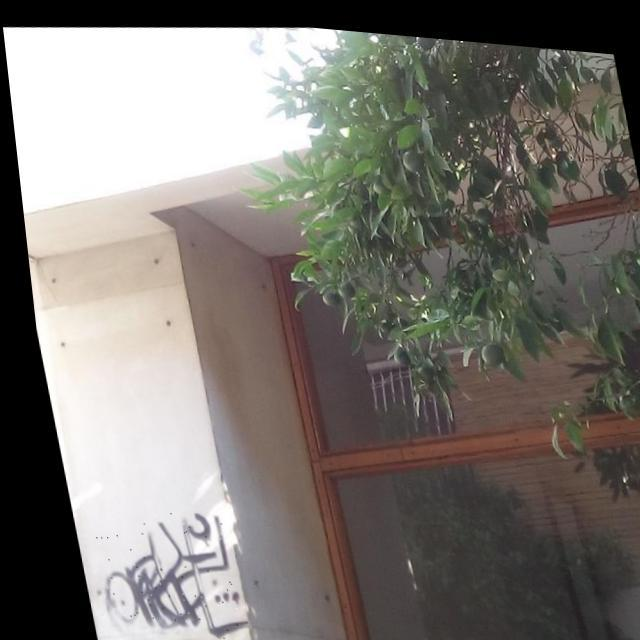-: (76, 500, 237, 640)
